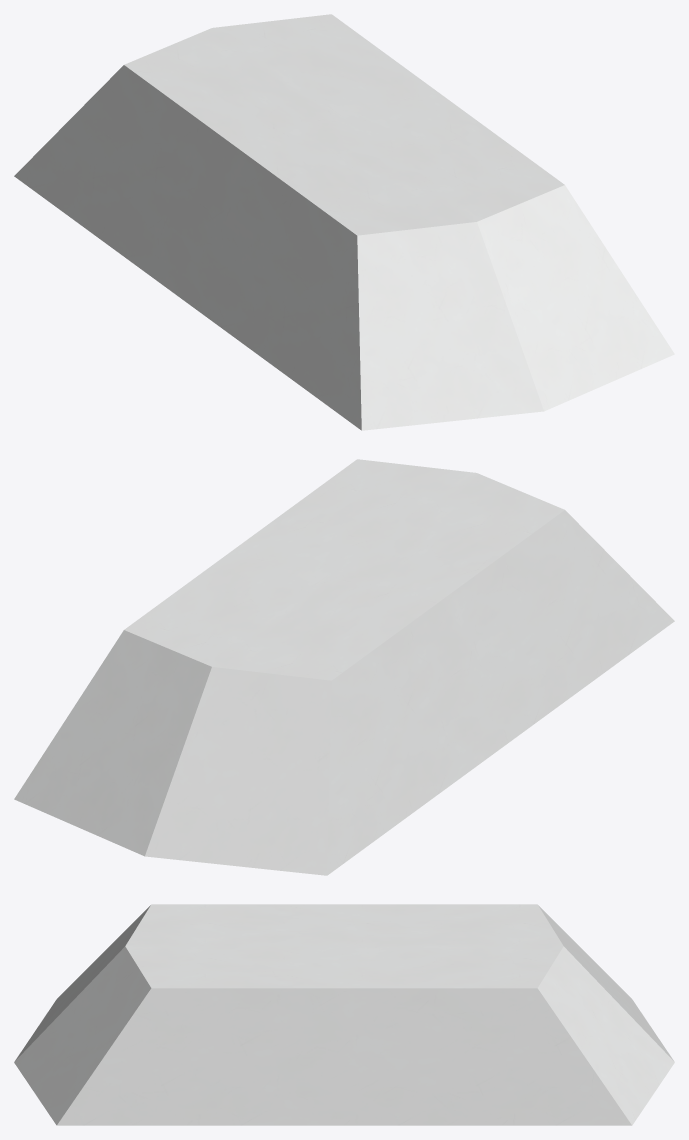
Rendered from Barra_Prata.fbx.
The picture shows the model from 3 angles, top to bottom: view 1: azimuth 30°, elevation 25°; view 2: azimuth 150°, elevation 25°; view 3: azimuth 270°, elevation 25°; orthographic projection. The views are drawn at different scales.
Visible parts, largest first — view 1: Barra de Metal; view 2: Barra de Metal; view 3: Barra de Metal.
Boxes of the visible parts, x1,y1,x2,y2 form: Barra de Metal: (14, 14, 674, 430); Barra de Metal: (14, 459, 674, 875); Barra de Metal: (14, 904, 674, 1125).
Size of the model in its own units: 21.32 by 9.13 by 47.09.
1 material, 1 textured.
